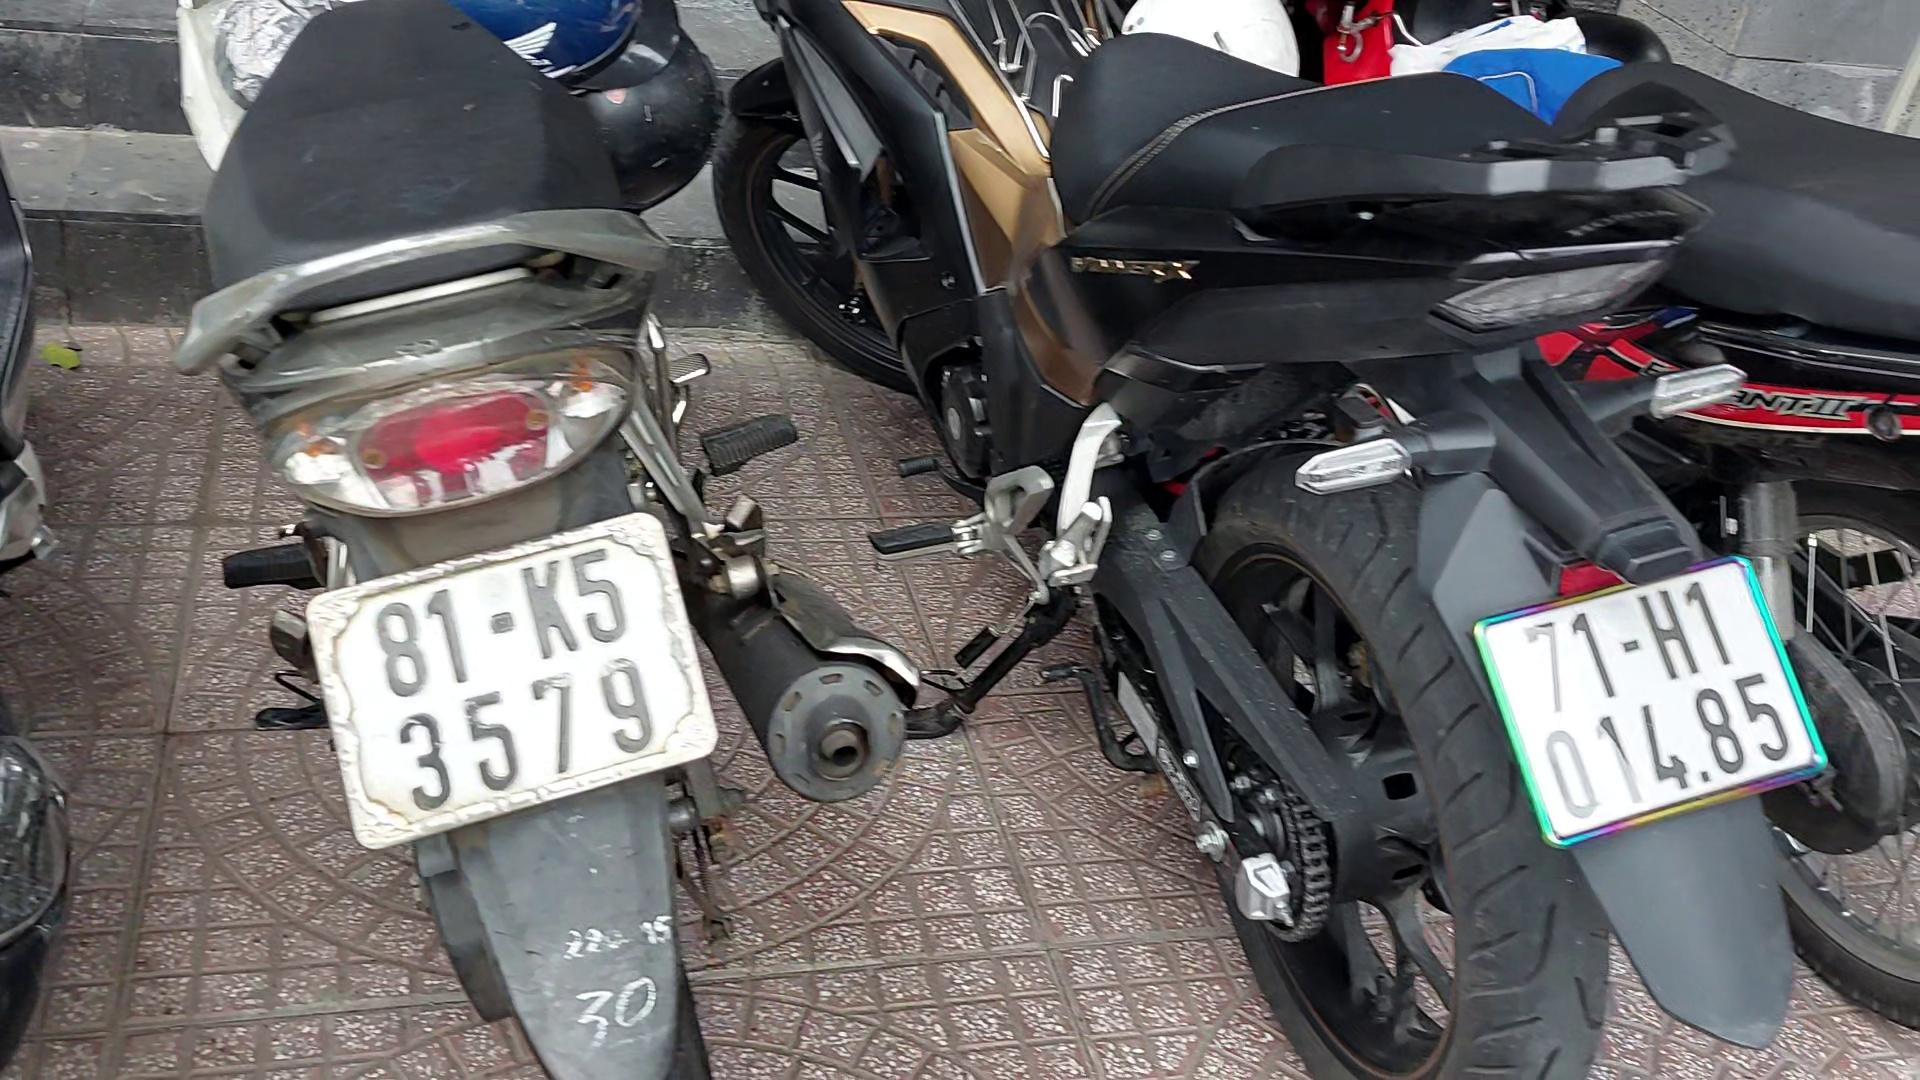numplate: (317, 510, 733, 860), (1467, 557, 1853, 877)
